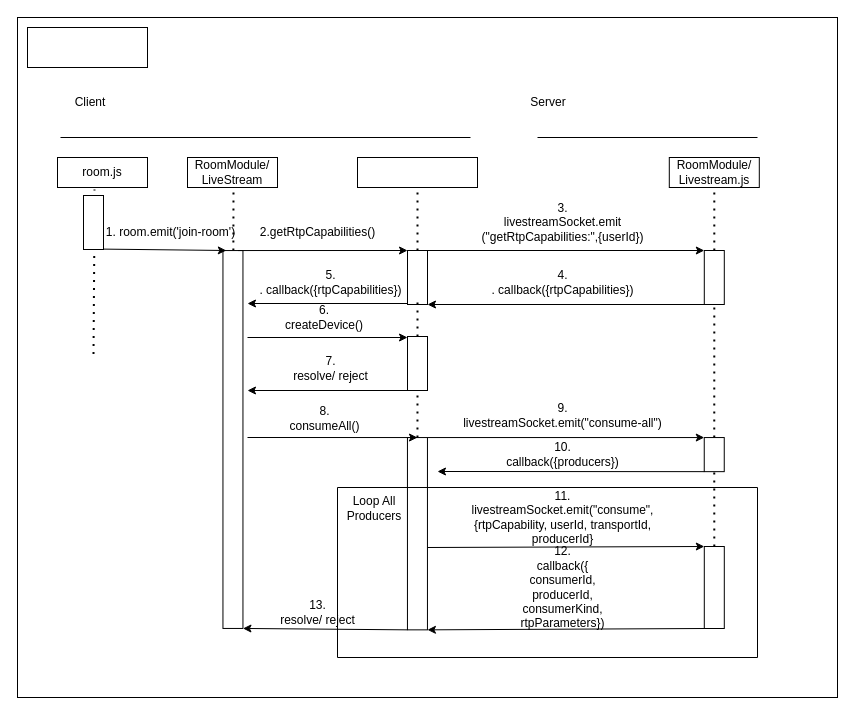
This 855x715 diagram has some shape labels left out. The centre of each missing label's shape, as x and y in pixels:
Join-room : livestream module: the point at 87,47
RoomModule/ MediasoupInterface: the point at 417,172
